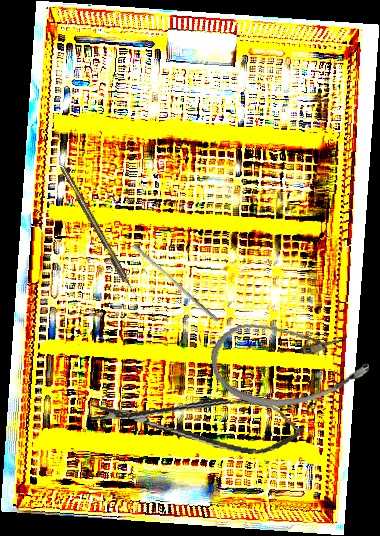Cannula: (207, 308, 373, 415)
Hook Surgical: (59, 164, 138, 299)
Micro Scissor: (86, 380, 307, 461)
Pusher: (129, 243, 223, 323)
